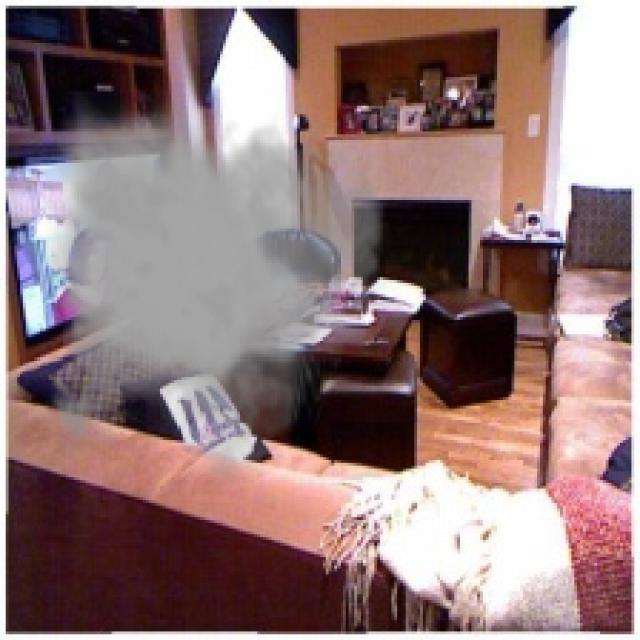Smoke: (40, 91, 389, 483)
